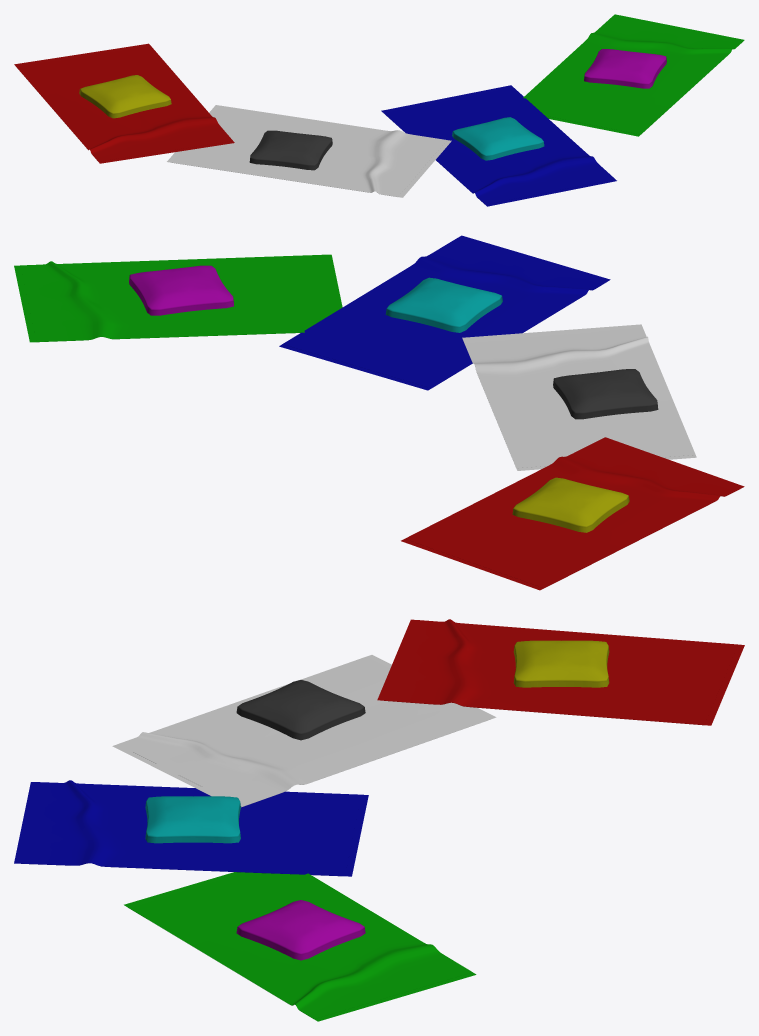
The model's file is Tapis_coussins.fbx.
3 renders of one model, top to bottom at view 1: azimuth 30°, elevation 25°; view 2: azimuth 150°, elevation 25°; view 3: azimuth 270°, elevation 25°, orthographic. The views are drawn at different scales.
Parts seen in each view (by area): view 1: Tapis, Tapis003, Tapis002, Tapis001, Coussin003, Coussin001, Coussin, Coussin002, Coussin_frange, Coussin_frange002, Coussin_frange003, Coussin_frange001; view 2: Tapis, Tapis003, Tapis002, Tapis001, Coussin003, Coussin001, Coussin, Coussin002, Coussin_frange, Coussin_frange002, Coussin_frange001, Coussin_frange003; view 3: Tapis, Tapis002, Tapis003, Tapis001, Coussin, Coussin002, Coussin003, Coussin001, Coussin_frange003, Coussin_frange001.
Boxes of the visible parts, x1,y1,x2,y2 form: Tapis: (14, 43, 234, 163); Tapis003: (523, 14, 744, 136); Tapis002: (381, 85, 616, 206); Tapis001: (167, 105, 451, 197); Coussin003: (584, 49, 666, 84); Coussin001: (250, 130, 331, 166); Coussin: (79, 75, 170, 114); Coussin002: (452, 117, 543, 156); Coussin_frange: (79, 90, 171, 118); Coussin_frange002: (452, 133, 544, 160); Coussin_frange003: (584, 58, 666, 88); Coussin_frange001: (249, 139, 332, 170); Tapis: (401, 437, 744, 590); Tapis003: (14, 254, 342, 342); Tapis002: (279, 235, 610, 390); Tapis001: (462, 324, 696, 470); Coussin003: (129, 265, 233, 310); Coussin001: (553, 369, 657, 414); Coussin: (513, 477, 628, 527); Coussin002: (386, 277, 502, 327); Coussin_frange: (512, 497, 629, 532); Coussin_frange002: (385, 297, 502, 332); Coussin_frange001: (553, 381, 658, 419); Coussin_frange003: (129, 277, 233, 315); Tapis: (377, 619, 744, 725); Tapis002: (14, 780, 368, 876); Tapis003: (124, 872, 476, 1021); Tapis001: (112, 655, 496, 807); Coussin: (514, 640, 608, 682); Coussin002: (146, 796, 240, 837); Coussin003: (237, 900, 364, 954); Coussin001: (237, 680, 364, 734); Coussin_frange003: (236, 928, 365, 960); Coussin_frange001: (236, 708, 365, 740).
Size of the model in its own units: 982 by 26.27 by 754.
